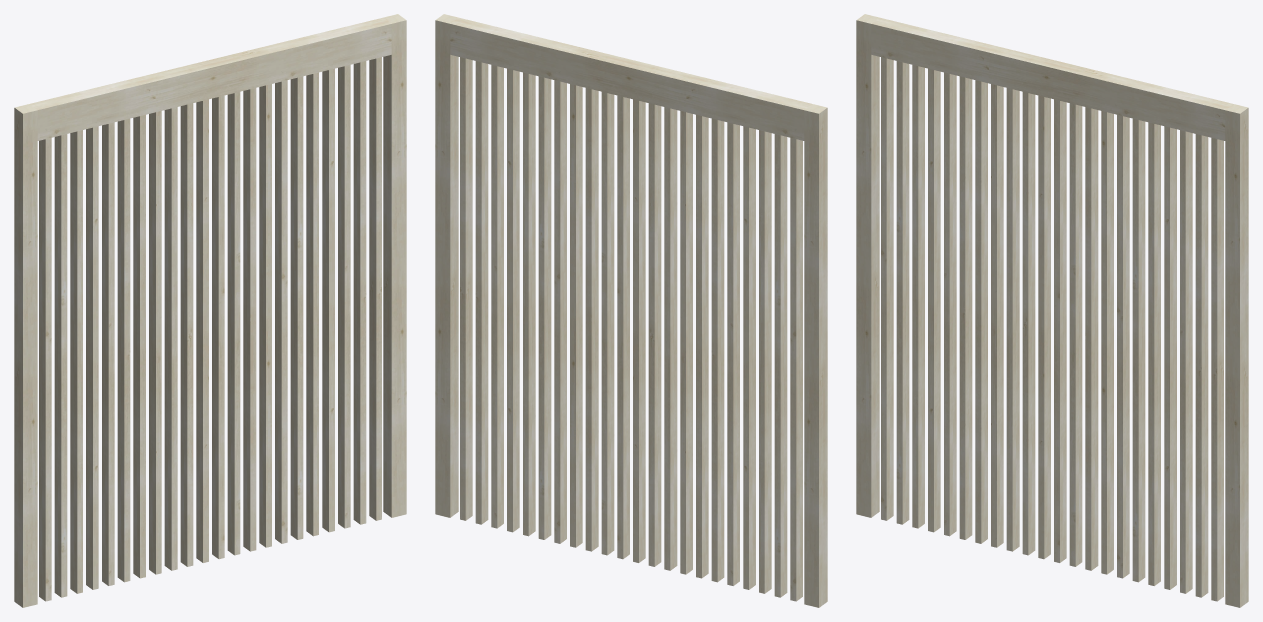
The model's file is 2400-1950_whitepine.fbx.
The picture shows the model from 3 angles, left to right: view 1: azimuth 30°, elevation 25°; view 2: azimuth 150°, elevation 25°; view 3: azimuth 330°, elevation 25°; orthographic projection.
Parts seen in each view (by area): view 1: 2400-1950_whitepine; view 2: 2400-1950_whitepine; view 3: 2400-1950_whitepine.
Boxes of the visible parts, x1,y1,x2,y2 form: 2400-1950_whitepine: (14,14,406,607); 2400-1950_whitepine: (435,14,827,607); 2400-1950_whitepine: (856,14,1248,607).
Bounding box in the file's own units: 195 × 240 × 7.5.
1 material, 1 textured.
